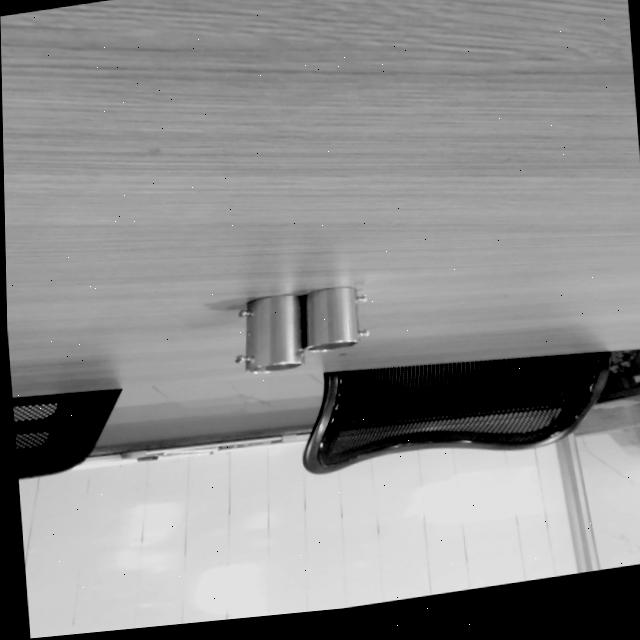Co_Lon: (233, 294, 305, 374)
Co_Nho: (301, 285, 370, 353)
